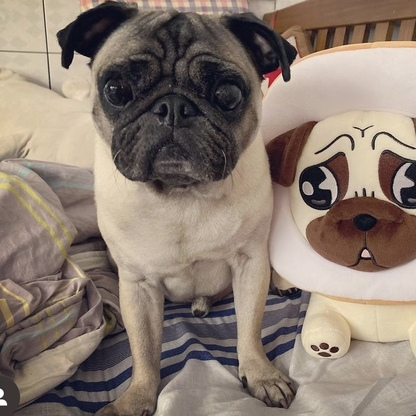Pug: (51, 1, 305, 416)
